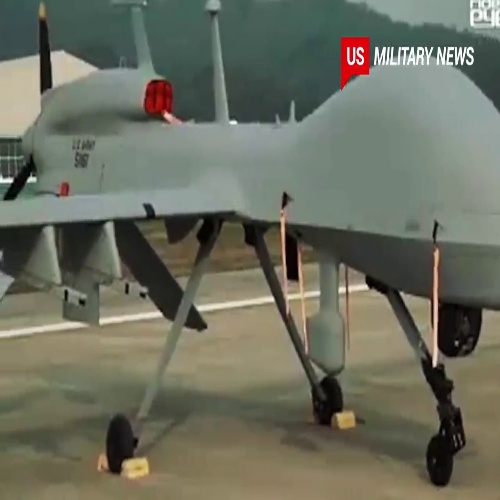uav: (1, 1, 500, 491)
